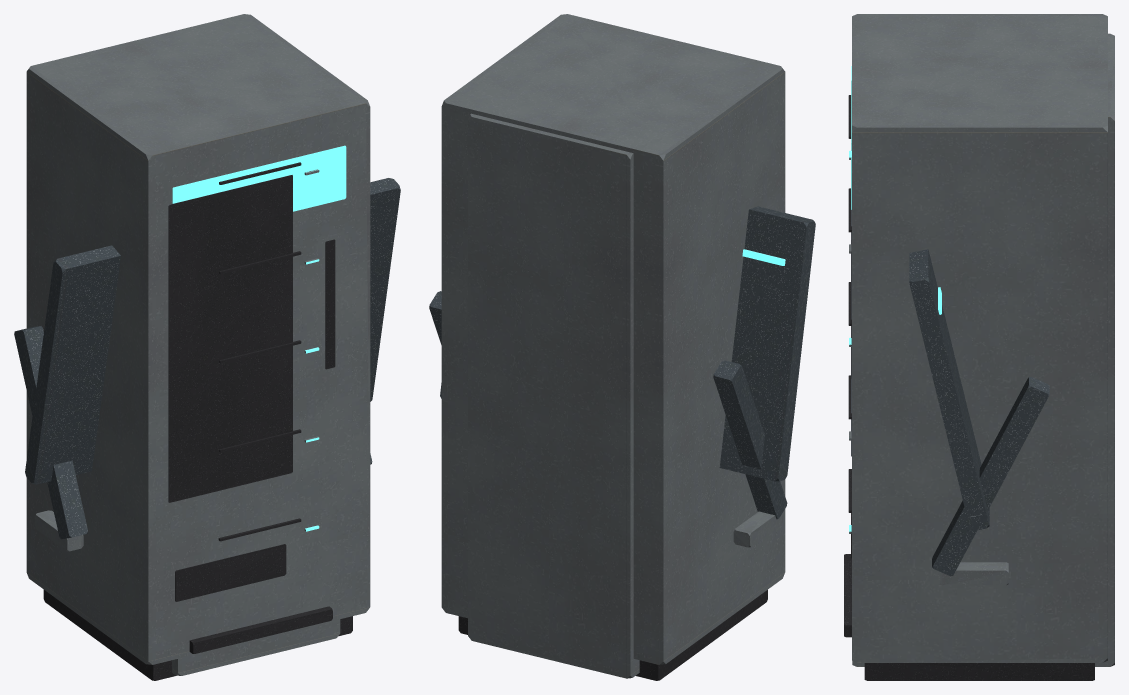
File: propsTech.glb
3 views of the same model, side by side, from view 1: azimuth 30°, elevation 25°; view 2: azimuth 150°, elevation 25°; view 3: azimuth 270°, elevation 25° (orthographic). The views are drawn at different scales.
Parts seen in each view (by area): view 1: chunk_1, vendingMachine_lod1_v0, vendingMachine_lod0_v0, chunk_3, combineBarrier_lod0_v0, vendingMachine_lod0_v0_emissive, chunk_0 (×2), serverRack_lod0_v0, chunk_4; view 2: serverRack_lod0_v0, vendingMachine_lod0_v0, vendingMachine_lod1_v0, chunk_1, combineBarrier_lod0_v0, chunk_0 (×2), serverRack_lod1_v0; view 3: vendingMachine_lod0_v0, vendingMachine_lod1_v0, combineBarrier_lod0_v0, chunk_1, chunk_0 (×2), serverRack_lod0_v0, serverRack_lod1_v0.
Part boxes in pixels (box(x1,y1,x2,y2)): chunk_1: box(29, 14, 370, 664); vendingMachine_lod1_v0: box(26, 14, 366, 680); vendingMachine_lod0_v0: box(26, 14, 369, 664); chunk_3: box(168, 175, 292, 502); combineBarrier_lod0_v0: box(14, 178, 400, 551); vendingMachine_lod0_v0_emissive: box(172, 145, 346, 211); chunk_0 (×2): box(43, 529, 340, 680); serverRack_lod0_v0: box(172, 162, 332, 675); chunk_4: box(175, 544, 286, 601); serverRack_lod0_v0: box(468, 113, 639, 678); vendingMachine_lod0_v0: box(444, 14, 785, 658); vendingMachine_lod1_v0: box(442, 14, 785, 680); chunk_1: box(441, 15, 781, 664); combineBarrier_lod0_v0: box(429, 206, 815, 547); chunk_0 (×2): box(472, 116, 767, 680); serverRack_lod1_v0: box(471, 114, 639, 677); vendingMachine_lod0_v0: box(852, 14, 1107, 662); vendingMachine_lod1_v0: box(852, 14, 1107, 680); combineBarrier_lod0_v0: box(909, 249, 1049, 585); chunk_1: box(851, 14, 1107, 660); chunk_0 (×2): box(849, 34, 1114, 680); serverRack_lod0_v0: box(844, 33, 1114, 666); serverRack_lod1_v0: box(852, 36, 1114, 666).
Size of what is drawn, in the model's own units: 1.25 by 1.88 by 0.825.
Materials: 3 (1 with a texture image).
